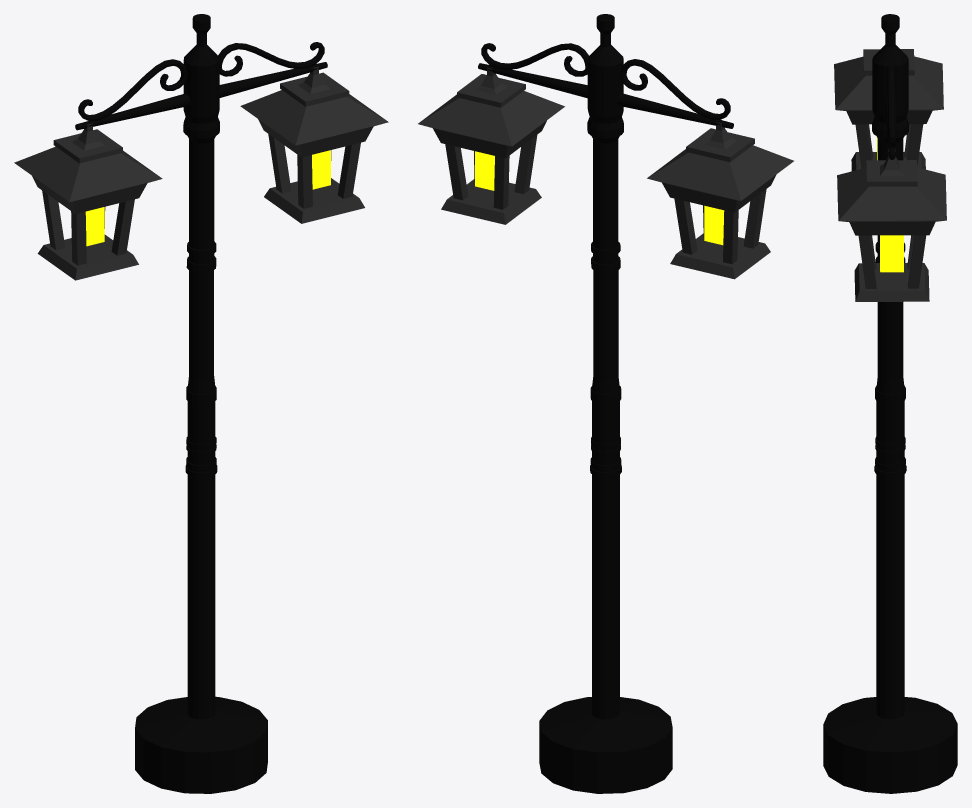
File: shadow_Lamp.fbx
3 views of the same model, side by side, from view 1: azimuth 30°, elevation 25°; view 2: azimuth 150°, elevation 25°; view 3: azimuth 270°, elevation 25° (orthographic).
Visible parts, largest first — view 1: Cylinder.006; view 2: Cylinder.006; view 3: Cylinder.006.
Part boxes in pixels (x1=…): Cylinder.006: x1=14, y1=14, x2=388, y2=793; Cylinder.006: x1=418, y1=14, x2=793, y2=793; Cylinder.006: x1=823, y1=14, x2=957, y2=793.
Bounding box in the file's own units: 141 × 311 × 50.69.
